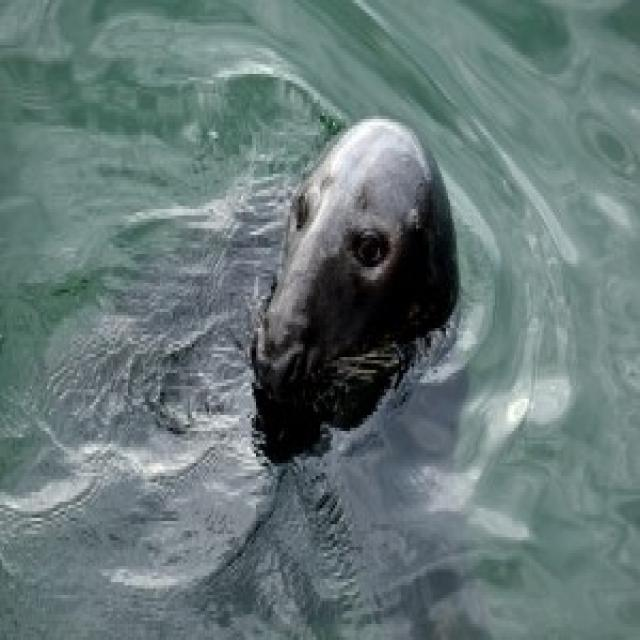Seal: (186, 123, 506, 484)
